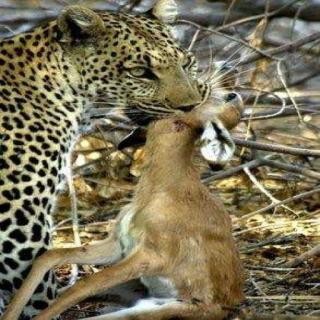Leopard: (26, 5, 249, 320)
